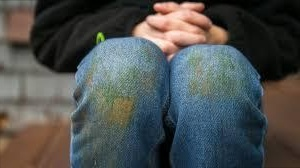earth: (189, 61, 234, 96), (95, 70, 154, 96), (106, 97, 135, 125)
